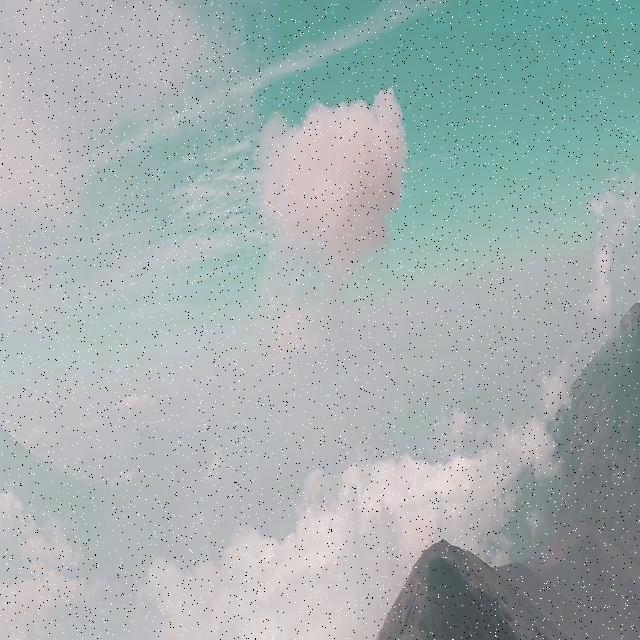Plume: (243, 80, 410, 300)
Summit: (365, 528, 546, 640)
